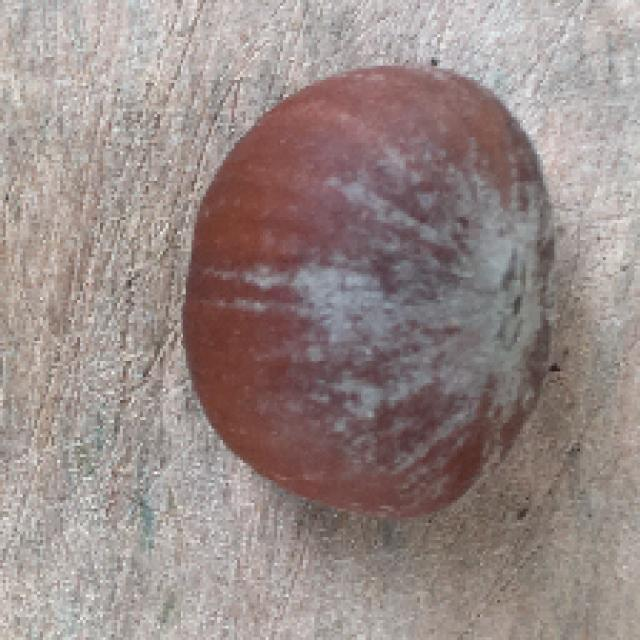damagedHazelnut: (167, 54, 568, 527)
